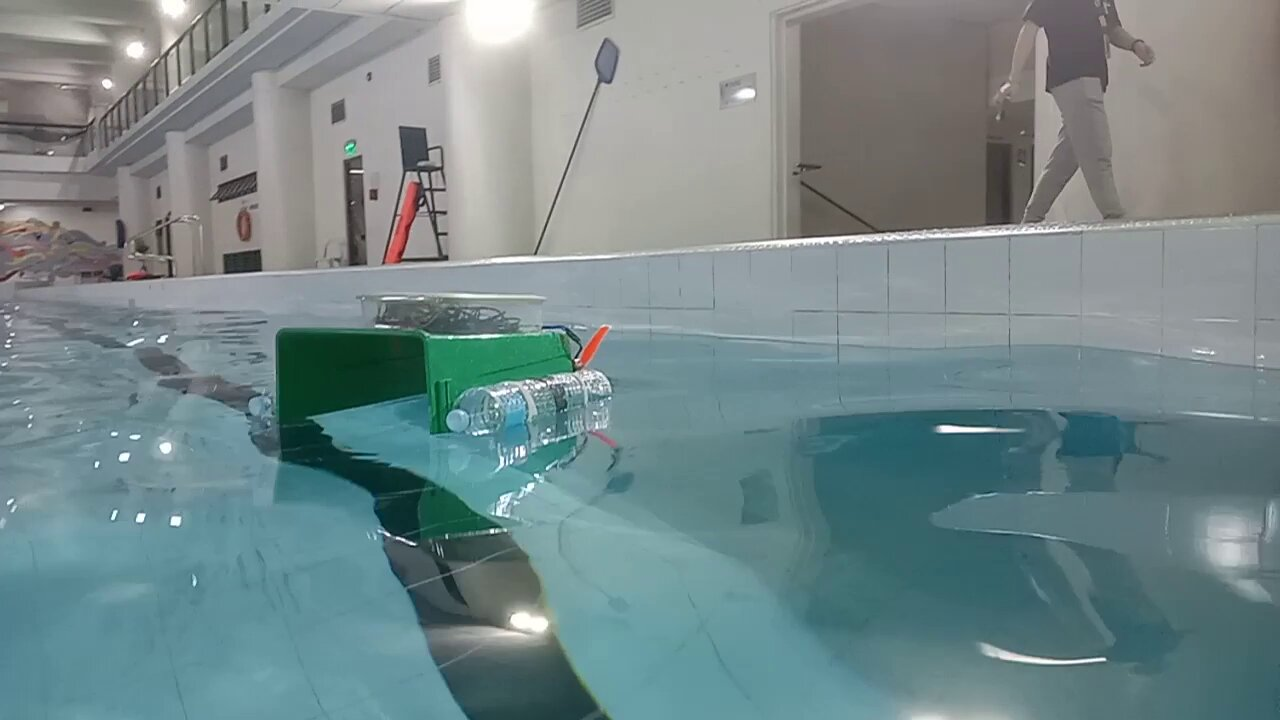drone: (248, 289, 615, 441)
